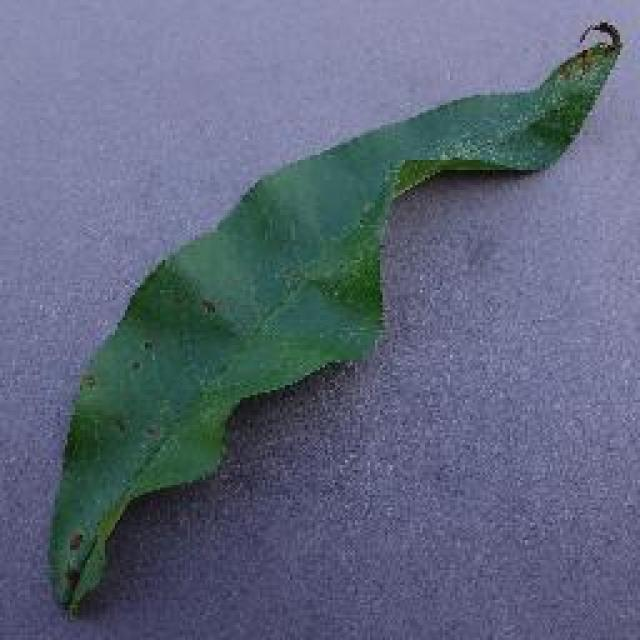Peach_Bacterial_Spot: (48, 253, 275, 472)
